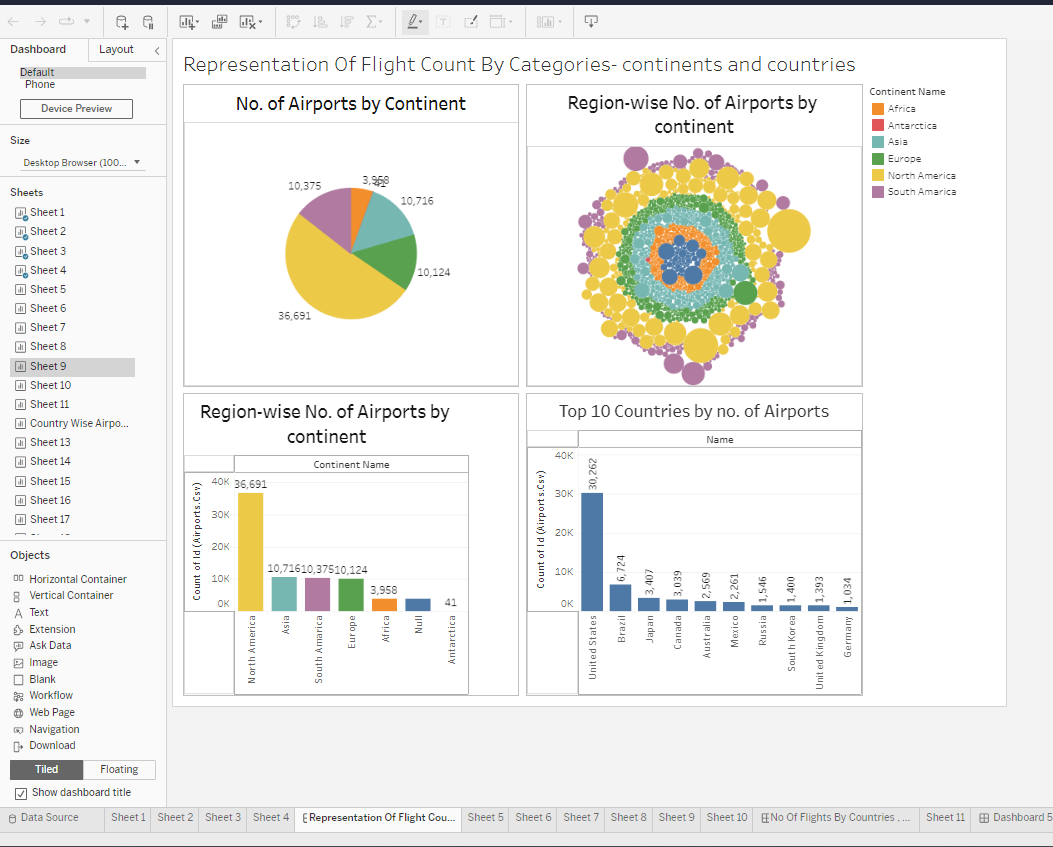

The dashboard page shown, as its layout file describes it:
{"tool":"tableau","page":{"name":"Representation Of Flight Count By Categories- continents and countries","canvas":[1000,800],"ordinal":5},"visuals":[{"type":"title","box":[8,8,984,92]},{"type":"worksheet","title":"Sheet 1","mark":"Pie","box":[8,100,412,346]},{"type":"worksheet","title":"Sheet 2","mark":"Circle","box":[420,100,412,346]},{"type":"legend","title":"Sheet 1","param":"[federated.1s1gakv1chf7ci1a48s9z1sl9pf5].[none:Calculation_2221682034224218112:n","box":[832,100,160,340]},{"type":"worksheet","title":"Sheet 3","mark":"Automatic","rows":["id (airports.csv)"],"cols":["Calculation_2221682034224218112"],"box":[8,446,412,346]},{"type":"worksheet","title":"Sheet 4","mark":"Automatic","rows":["id (airports.csv)"],"cols":["name"],"box":[420,446,412,346]}]}

Visuals, with their boxes on the page's 1000x800 design canvas (x1, y1, x2, y2). These are canvas units, not pixel positions in the 1053x847 screenshot, which may show the page scaled, cropped or inside an application window:
title: [left=8, top=8, right=992, bottom=100]
"Sheet 1" worksheet (Pie marks): [left=8, top=100, right=420, bottom=446]
"Sheet 2" worksheet (Circle marks): [left=420, top=100, right=832, bottom=446]
"Sheet 1" legend: [left=832, top=100, right=992, bottom=440]
"Sheet 3" worksheet: [left=8, top=446, right=420, bottom=792]
"Sheet 4" worksheet: [left=420, top=446, right=832, bottom=792]
